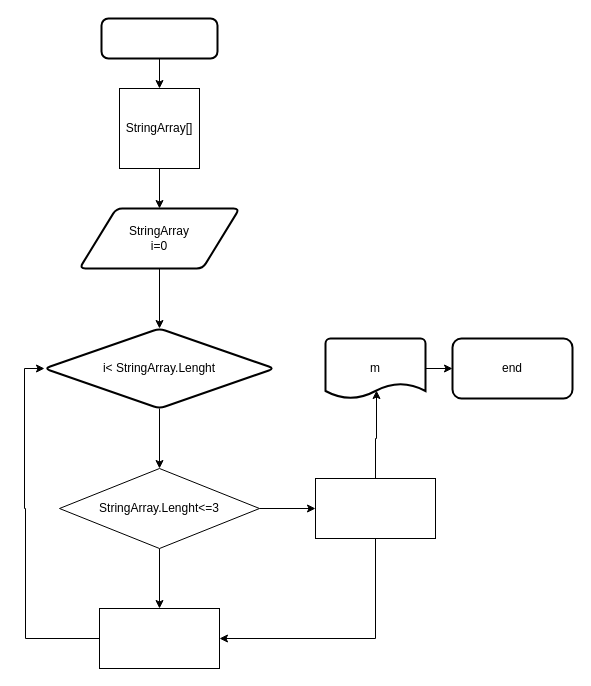
Some shapes in this 591 by 686 pixel diagram are drawn without their labels. Each missing label, with the centre of its shape:
i++: the point at 159,638
m=StringArray: the point at 375,508
Start: the point at 159,38
